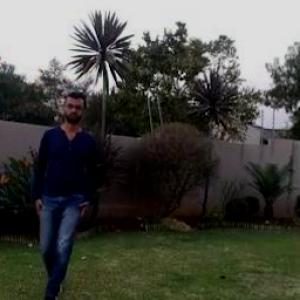follow: (24, 78, 105, 299)
